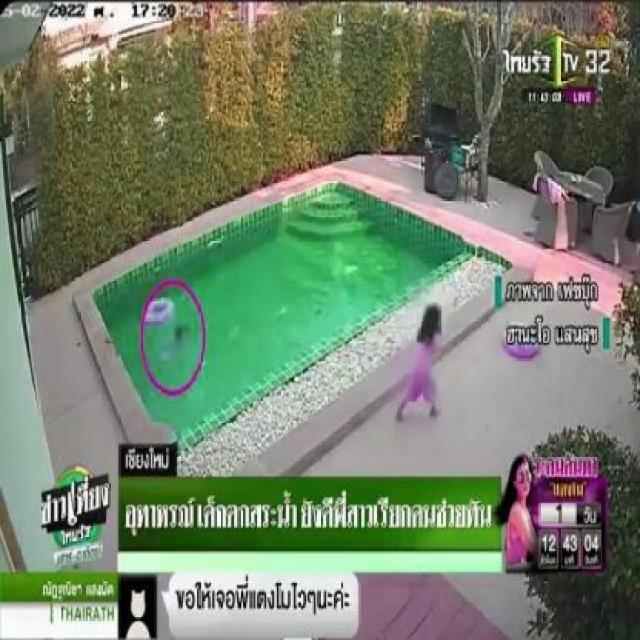drowning: (153, 328, 190, 358)
